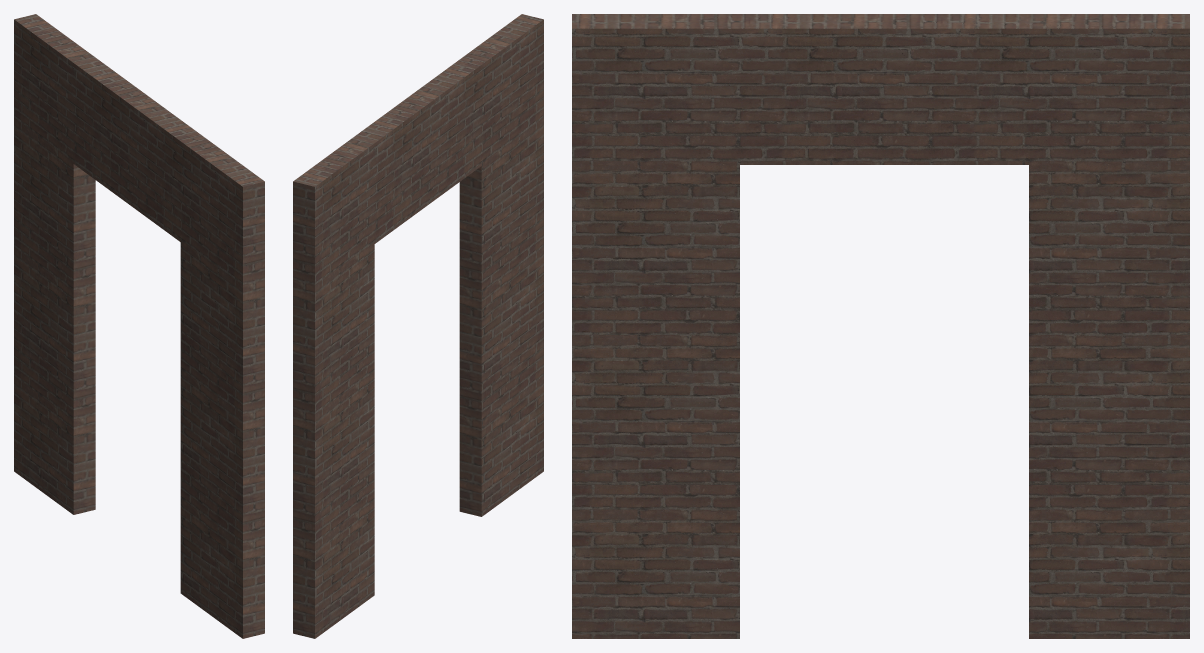
The model's file is soupdoorwall008.glb.
The picture shows the model from 3 angles, left to right: view 1: azimuth 30°, elevation 25°; view 2: azimuth 150°, elevation 25°; view 3: azimuth 270°, elevation 25°; orthographic projection. The views are drawn at different scales.
Visible parts, largest first — view 1: soupdoorwall008_high_1; view 2: soupdoorwall008_high_1; view 3: soupdoorwall008_high_1.
Part boxes in pixels (box(x1,y1,x2,y2)): soupdoorwall008_high_1: box(14, 14, 264, 638); soupdoorwall008_high_1: box(293, 14, 543, 638); soupdoorwall008_high_1: box(572, 14, 1189, 638).
Bounding box in the file's own units: 0.1504 × 2.95 × 2.7.
1 material, 1 textured.
